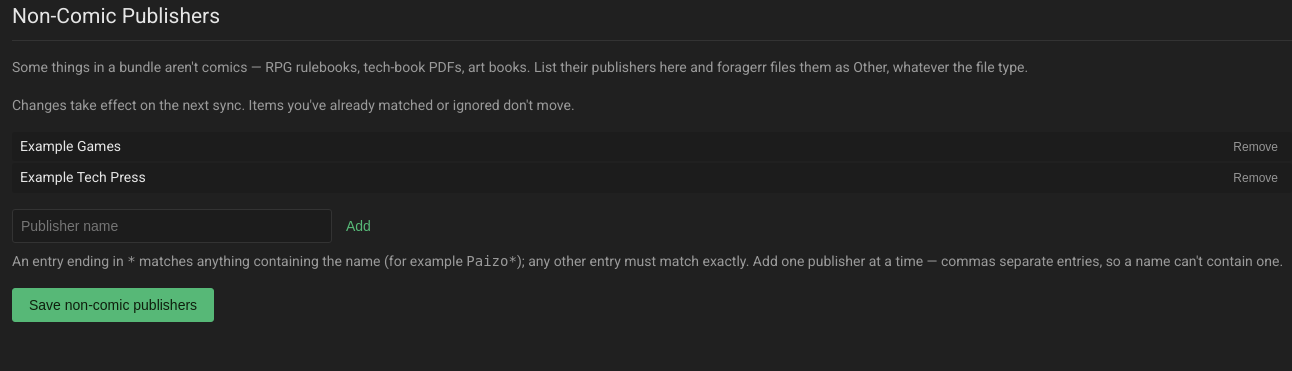
Test case: FRG-UI-046: Settings publisher-filtering panel › FRG-UI-046 — adding a publisher and saving PUTs the whole list as a comma-separated string
Expected: the list item with test id "non-comic-publisher-Example Games" is shown, [12,132,1291,161]
Type "Example Art Books" into the field with test id "non-comic-publishers-input". click: x=172, y=226
box: [12,209,332,243]
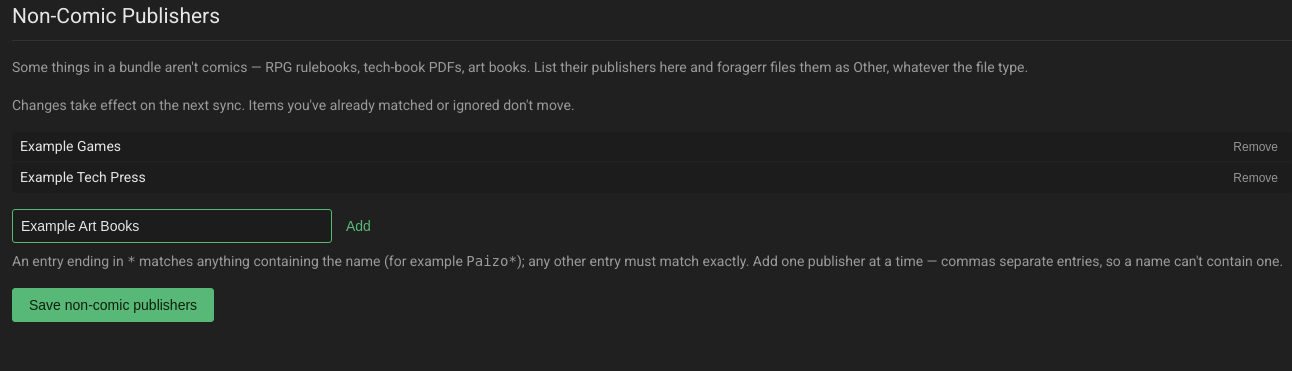
Click the button with test id "non-comic-publishers-add". click: x=358, y=226
box: [340,217,377,235]
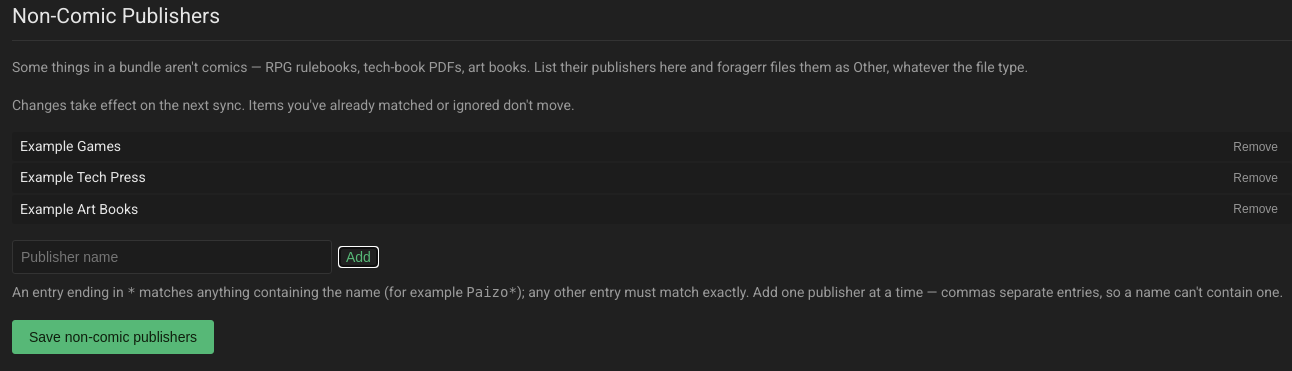
Click the button with test id "non-comic-publishers-save". click: x=113, y=337
box: [12,320,214,354]
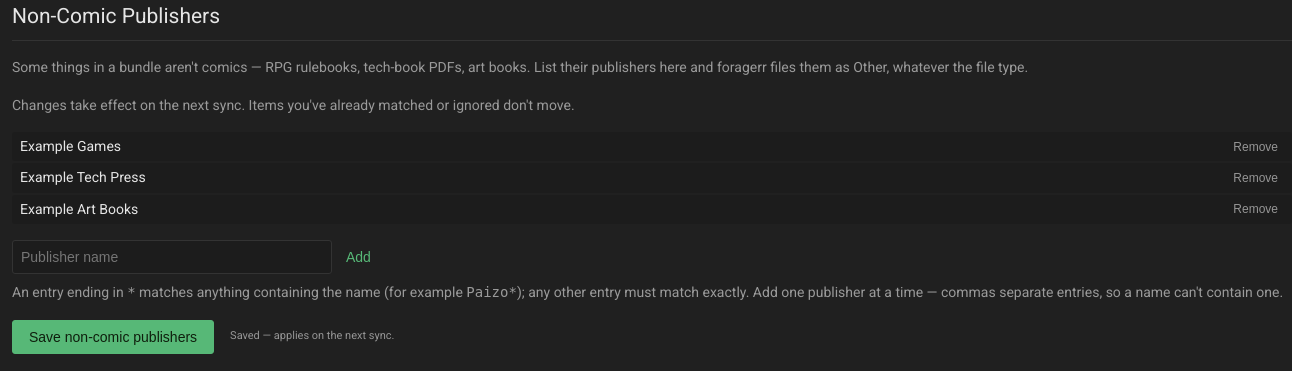
Result: the message "Saved — applies on the next sync." is shown at [230,328,394,345]
